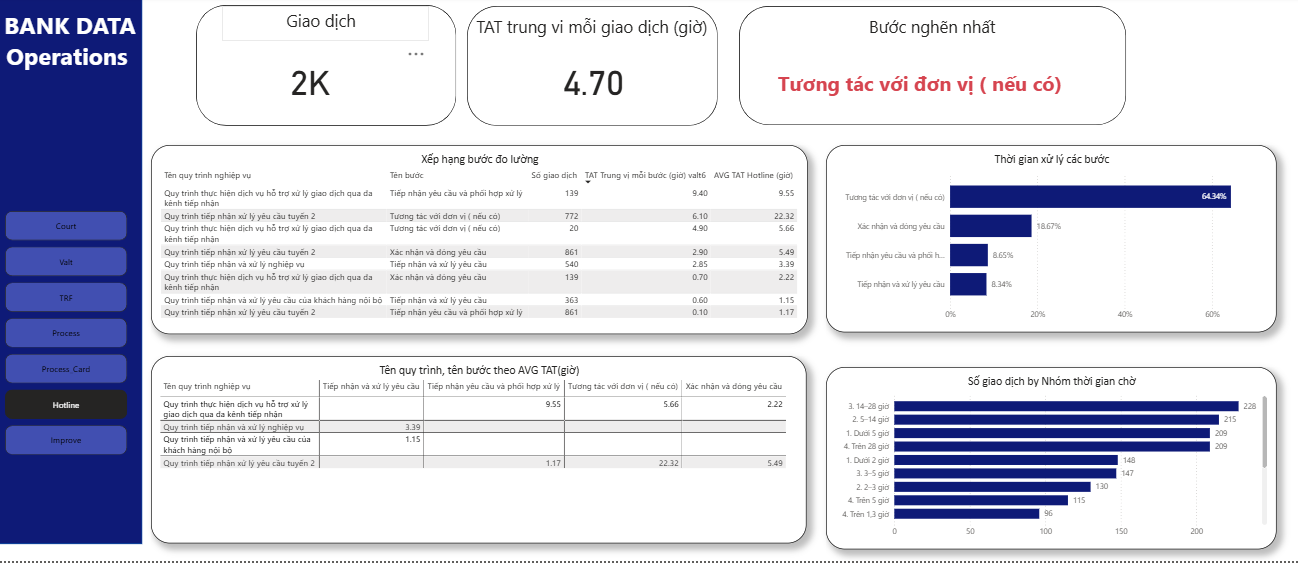

The page's visual inventory and layout, read from the dashboard file:
{"tool":"powerbi","page":{"name":"Hotline","canvas":[1920,900],"ordinal":5},"visuals":[{"type":"shape","box":[11,0,230.4,873.1],"z":0},{"type":"textbox","box":[0,15,258.3,188.6],"z":1000},{"type":"shape","box":[326.6,12.3,415.4,192.7],"z":2000},{"type":"textbox","box":[369,15,330.7,54.7],"z":3000},{"type":"cardVisual","fields":{"Data":["Measure_Hotline.Số giao dịch valt6"]},"box":[459.2,80.6,173.6,94.3],"z":4000},{"type":"cardVisual","fields":{"Data":["Measure_Hotline.Bước nghẽn nhất valt6"]},"box":[1238.1,69.7,548,125.7],"z":5000},{"type":"shape","box":[1193,13.7,617.7,190],"z":6000},{"type":"textbox","box":[1332.4,23.2,338.9,57.4],"z":7000},{"type":"shape","box":[759.8,13.7,400.4,191.3],"z":8000},{"type":"textbox","box":[742,24.6,433.2,56],"z":9000},{"type":"cardVisual","fields":{"Data":["Measure_Hotline.TAT Trung vị mỗi giao dịch (giờ) valt6"]},"box":[895.1,80.6,181.8,94.3],"z":10000},{"type":"clusteredBarChart","title":"Thời gian xử lý các bước","fields":{"Category":["Dim_UNIT_06_HOTLINE.Tên bước"],"Y":["Measure_Hotline.% Tổng thời gian xử lý valt6"]},"box":[268.9,574.4,536.7,298.9],"z":11000},{"type":"clusteredBarChart","fields":{"Y":["Measure_Hotline.Số giao dịch valt6"],"Category":["Fact_UNIT_06_HOTLINE.Nhóm thời gian chờ valt6"]},"box":[860,574.4,1046.7,291.1],"z":12000},{"type":"tableEx","title":"Xếp hạng bước đo lường","fields":{"Values":["Dim_UNIT_06_HOTLINE.Tên quy trình nghiệp vụ","Dim_UNIT_06_HOTLINE.Tên bước","Measure_Hotline.Số giao dịch valt6","Measure_Hotline.TAT Trung vị mỗi bước (giờ) valt6","Measure TAT (2).AVG TAT Hotline (phút)"]},"box":[860,252.2,1046.7,302.2],"z":13000},{"type":"pivotTable","title":"Tên quy trình, tên bước theo AVG TAT(giờ)","fields":{"Rows":["Dim_UNIT_06_HOTLINE.Tên quy trình nghiệp vụ"],"Columns":["Dim_UNIT_06_HOTLINE.Tên bước"],"Values":["Measure TAT (2).AVG TAT Hotline (phút)"]},"box":[269.2,255.5,574,299.3],"z":15000},{"type":"pageNavigator","box":[22.1,340.7,195.9,394.5],"z":16000}]}

Visuals, with their boxes on the page's 1920x900 design canvas (x1, y1, x2, y2). These are canvas units, not pixel positions in the 1298x567 screenshot, which may show the page scaled, cropped or inside an application window:
shape: bbox=(11, 0, 241, 873)
textbox: bbox=(0, 15, 258, 204)
shape: bbox=(327, 12, 742, 205)
textbox: bbox=(369, 15, 700, 70)
cardVisual - Measure_Hotline.Số giao dịch valt6: bbox=(459, 81, 633, 175)
cardVisual - Measure_Hotline.Bước nghẽn nhất valt6: bbox=(1238, 70, 1786, 195)
shape: bbox=(1193, 14, 1811, 204)
textbox: bbox=(1332, 23, 1671, 81)
shape: bbox=(760, 14, 1160, 205)
textbox: bbox=(742, 25, 1175, 81)
cardVisual - Measure_Hotline.TAT Trung vị mỗi giao dịch (giờ) valt6: bbox=(895, 81, 1077, 175)
"Thời gian xử lý các bước" clusteredBarChart: bbox=(269, 574, 806, 873)
clusteredBarChart - Measure_Hotline.Số giao dịch valt6 x Fact_UNIT_06_HOTLINE.Nhóm thời gian chờ valt6: bbox=(860, 574, 1907, 866)
"Xếp hạng bước đo lường" tableEx: bbox=(860, 252, 1907, 554)
"Tên quy trình, tên bước theo AVG TAT(giờ)" pivotTable: bbox=(269, 256, 843, 555)
pageNavigator: bbox=(22, 341, 218, 735)
